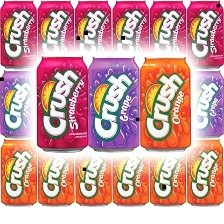can: (136, 51, 194, 154), (33, 52, 90, 155), (86, 55, 138, 154), (186, 136, 224, 209), (0, 69, 39, 138), (0, 0, 37, 71), (0, 137, 37, 208), (186, 0, 223, 68), (188, 71, 223, 137), (37, 152, 76, 211), (111, 148, 149, 207), (148, 150, 186, 208), (35, 0, 74, 56), (73, 0, 110, 58), (75, 153, 111, 209), (111, 0, 148, 54), (149, 0, 186, 53)
